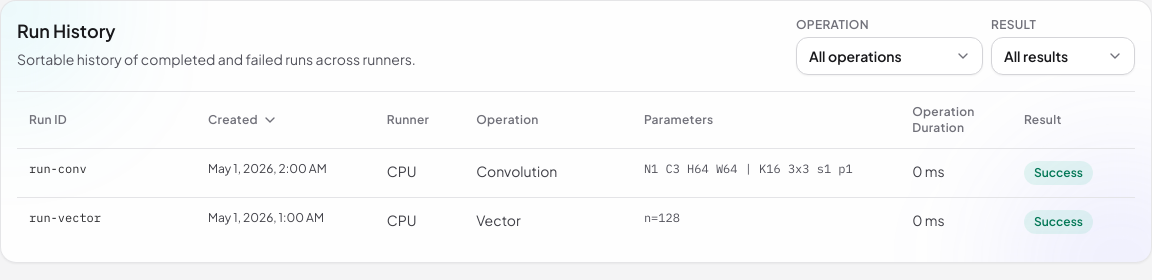
Scenario: RunHistoryView › filters rows by operation
Select "Convolution" in the dropdown labelled "Operation": (890, 56) [796,37,983,75]
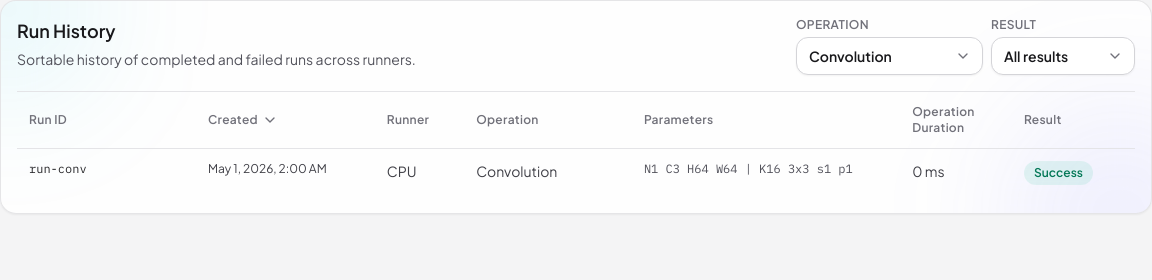
Check: the button "run-conv" is shown, box [29,161,87,177]
Check: the button "run-vector" is gone
